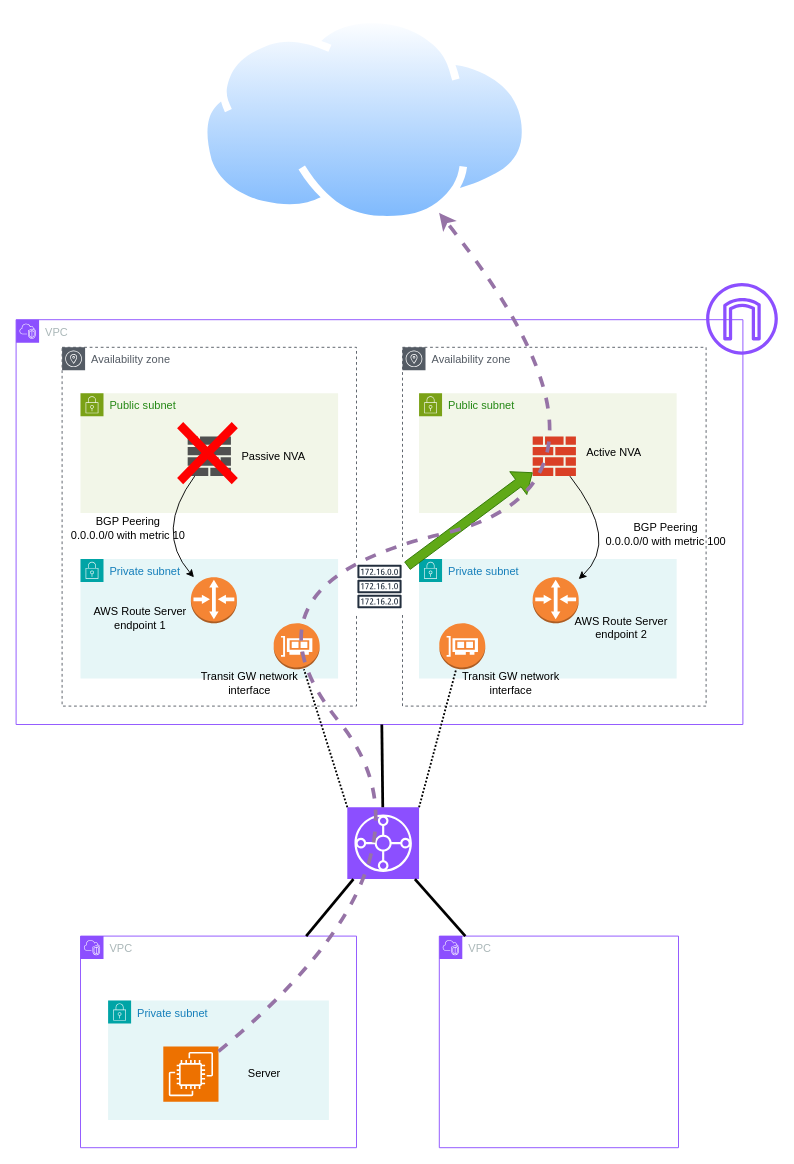
The diagram is 794 pixels wide and 1164 high, and some of its shapes have lost their labels. The centre of each missing label's shape, as x and y in pixels:
Internet: the point at 365,119
Route table: the point at 379,586
